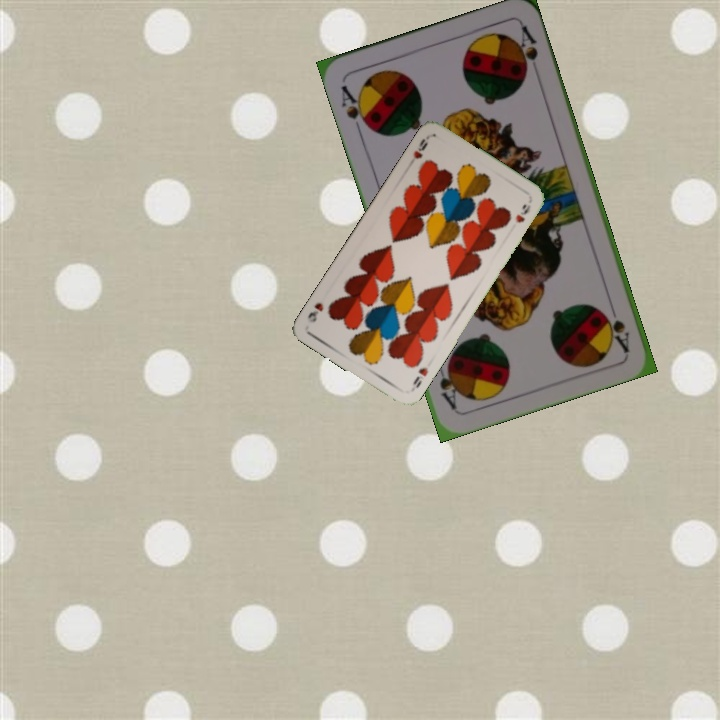H9: (409, 132, 432, 162), (409, 363, 431, 391)
SA: (337, 81, 374, 136), (601, 308, 632, 355)
